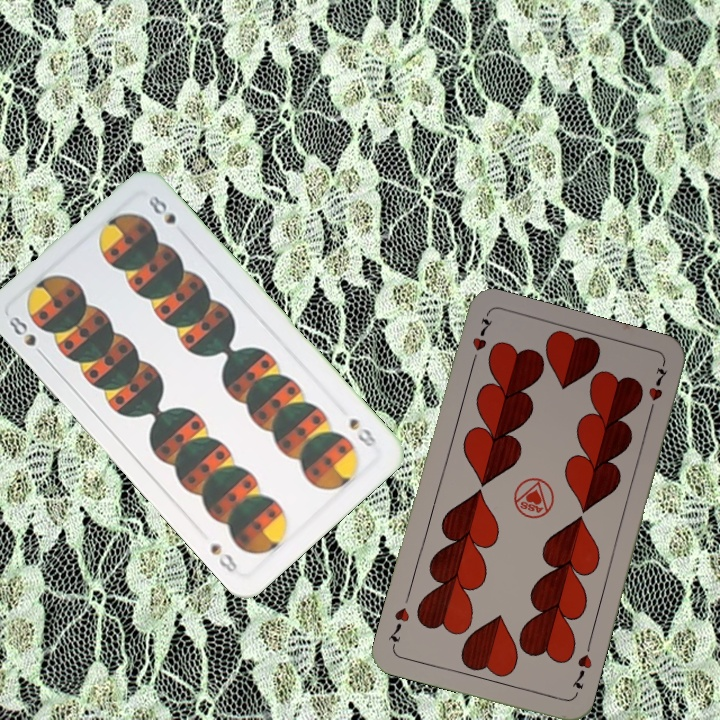H7: (467, 314, 495, 370), (568, 650, 595, 692)
S8: (4, 311, 49, 361), (345, 413, 380, 449)
